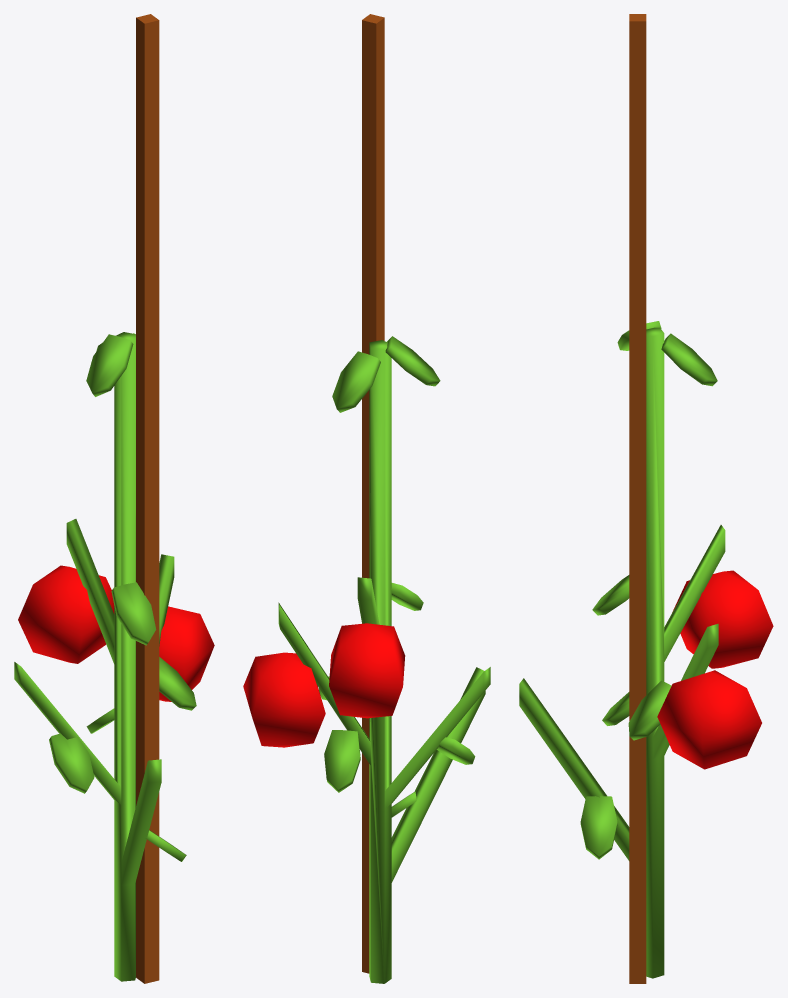
Rendered from tomato-eat3.obj.
3 views of the same model, side by side, from view 1: azimuth 30°, elevation 25°; view 2: azimuth 150°, elevation 25°; view 3: azimuth 270°, elevation 25° (orthographic).
Visible parts, largest first — view 1: cube2, cylinder5, sphere6_copy10, sphere6_copy9, cylinder12_copy14, cylinder12_copy16, cylinder12_copy13, cylinder12_copy15; view 2: cylinder5, cube2, sphere6_copy10, sphere6_copy9, cylinder12_copy14, cylinder12_copy17, cylinder12_copy13, cylinder12_copy16; view 3: cylinder5, cube2, sphere6_copy9, sphere6_copy10, cylinder12, cylinder12_copy14, cylinder12_copy15, cylinder12_copy16.
Part boxes in pixels (x1=…): cube2: x1=136, y1=14, x2=159, y2=983; cylinder5: x1=14, y1=332, x2=174, y2=981; sphere6_copy10: x1=18, y1=565, x2=114, y2=663; sphere6_copy9: x1=159, y1=606, x2=214, y2=701; cylinder12_copy14: x1=86, y1=333, x2=134, y2=396; cylinder12_copy16: x1=111, y1=582, x2=156, y2=645; cylinder12_copy13: x1=49, y1=733, x2=94, y2=793; cylinder12_copy15: x1=159, y1=657, x2=196, y2=710; cylinder5: x1=278, y1=340, x2=490, y2=983; cube2: x1=362, y1=14, x2=384, y2=973; sphere6_copy10: x1=329, y1=623, x2=405, y2=718; sphere6_copy9: x1=243, y1=652, x2=325, y2=747; cylinder12_copy14: x1=332, y1=336, x2=440, y2=412; cylinder12_copy17: x1=324, y1=730, x2=360, y2=792; cylinder12_copy13: x1=436, y1=737, x2=475, y2=764; cylinder12_copy16: x1=391, y1=583, x2=423, y2=610; cylinder5: x1=519, y1=327, x2=725, y2=978; cube2: x1=629, y1=14, x2=646, y2=983; sphere6_copy9: x1=657, y1=670, x2=761, y2=769; sphere6_copy10: x1=672, y1=570, x2=773, y2=668; cylinder12: x1=580, y1=796, x2=617, y2=859; cylinder12_copy14: x1=617, y1=321, x2=717, y2=386; cylinder12_copy15: x1=628, y1=680, x2=671, y2=740; cylinder12_copy16: x1=592, y1=575, x2=629, y2=615.
Bounding box in the file's own units: 1.45 × 6 × 1.43.
